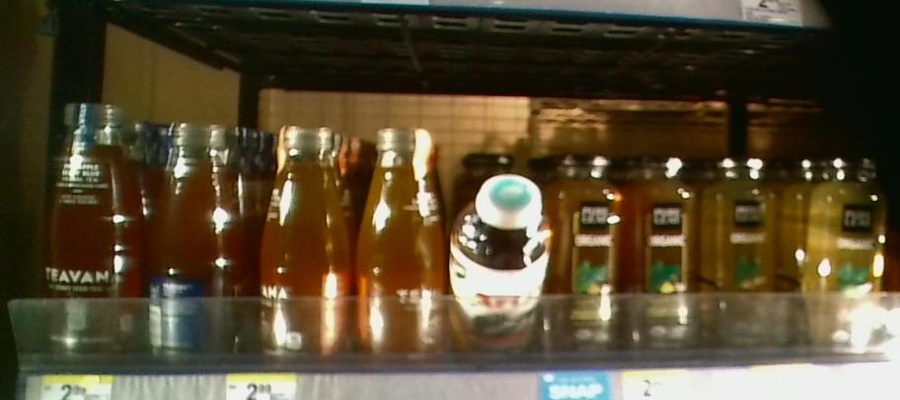bottle: (44, 96, 142, 371), (145, 116, 249, 362), (255, 123, 353, 363), (356, 127, 448, 364), (453, 171, 551, 369), (811, 151, 885, 349), (625, 149, 698, 343), (703, 151, 780, 334), (553, 151, 621, 354)
